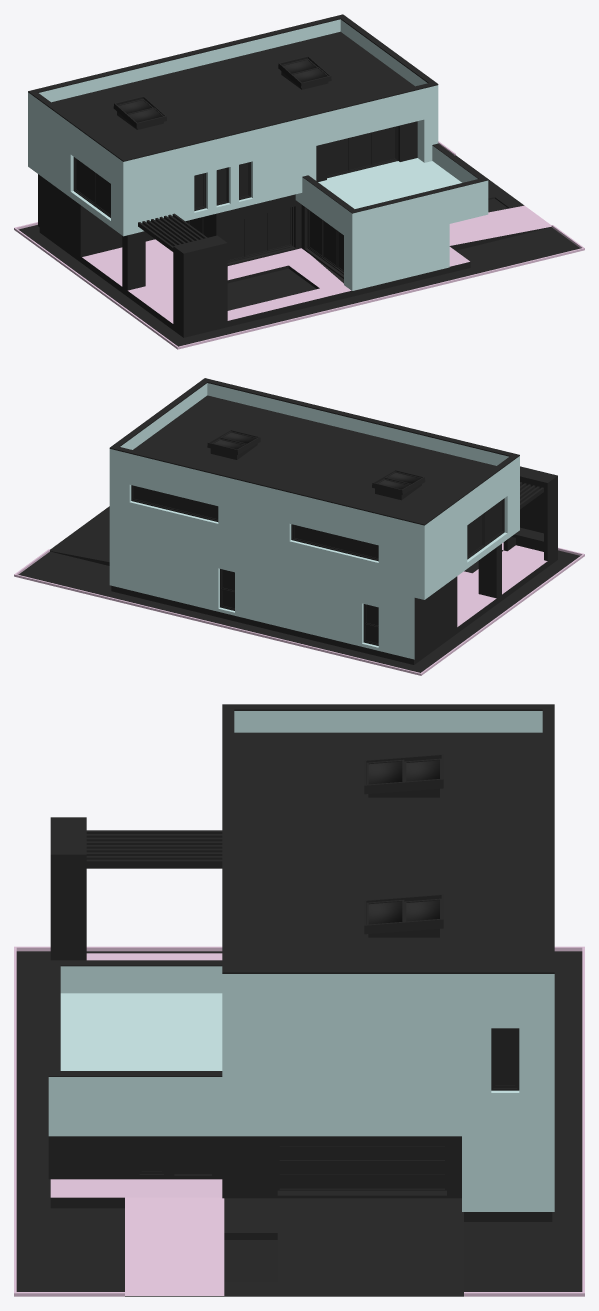
3 renders of one model, top to bottom at view 1: azimuth 30°, elevation 25°; view 2: azimuth 150°, elevation 25°; view 3: azimuth 270°, elevation 25°, orthographic. The views are drawn at different scales.
Parts seen in each view (by area): view 1: Modern House_3_obj; view 2: Modern House_3_obj; view 3: Modern House_3_obj.
Part boxes in pixels (left/top/right/bottom): Modern House_3_obj: left=14, top=14, right=584, bottom=349; Modern House_3_obj: left=14, top=378, right=584, bottom=675; Modern House_3_obj: left=14, top=704, right=584, bottom=1296.
Bounding box in the file's own units: 825 × 278 × 574.
